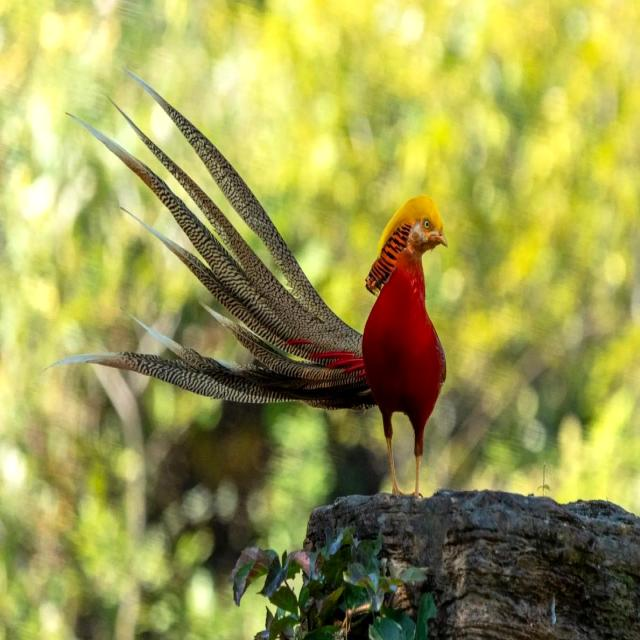Chrysolophus pictus feather: (39, 78, 376, 411)
